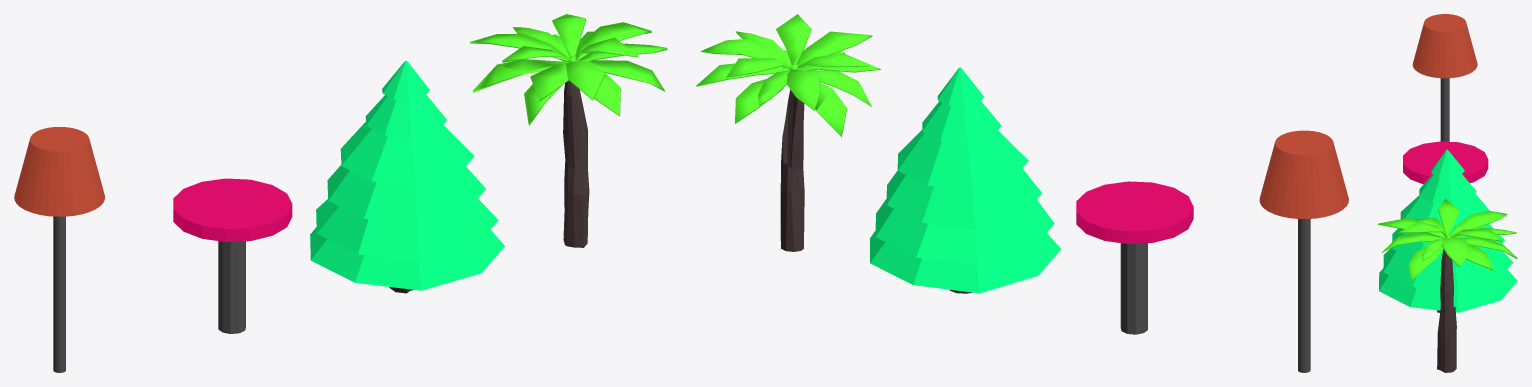
File: smart_goods_4.fbx
3 renders of one model, left to right at view 1: azimuth 30°, elevation 25°; view 2: azimuth 150°, elevation 25°; view 3: azimuth 270°, elevation 25°, orthographic. The views are drawn at different scales.
Visible parts, largest first — view 1: body, blades, cone, top, Palm, Table, Lamp; view 2: body, blades, cone, top, Palm, Table, Lamp; view 3: body, blades, cone, top, Palm, Lamp.
Boxes of the visible parts, bbox=[...] form: body: bbox=[310, 60, 504, 290]; blades: bbox=[470, 14, 667, 125]; cone: bbox=[14, 127, 104, 216]; top: bbox=[173, 178, 292, 241]; Palm: bbox=[563, 80, 589, 247]; Table: bbox=[218, 241, 245, 333]; Lamp: bbox=[53, 216, 65, 372]; body: bbox=[870, 67, 1060, 293]; blades: bbox=[696, 14, 880, 137]; cone: bbox=[1259, 130, 1348, 218]; top: bbox=[1076, 181, 1193, 243]; Palm: bbox=[780, 90, 804, 251]; Table: bbox=[1120, 243, 1147, 334]; Lamp: bbox=[1298, 219, 1310, 372]; body: bbox=[1379, 149, 1517, 312]; blades: bbox=[1377, 198, 1517, 280]; cone: bbox=[1412, 14, 1477, 78]; top: bbox=[1403, 141, 1488, 184]; Palm: bbox=[1437, 249, 1456, 372]; Lamp: bbox=[1440, 78, 1449, 141].
Bounding box in the file's own units: 3.72 × 1.29 × 0.9875.
